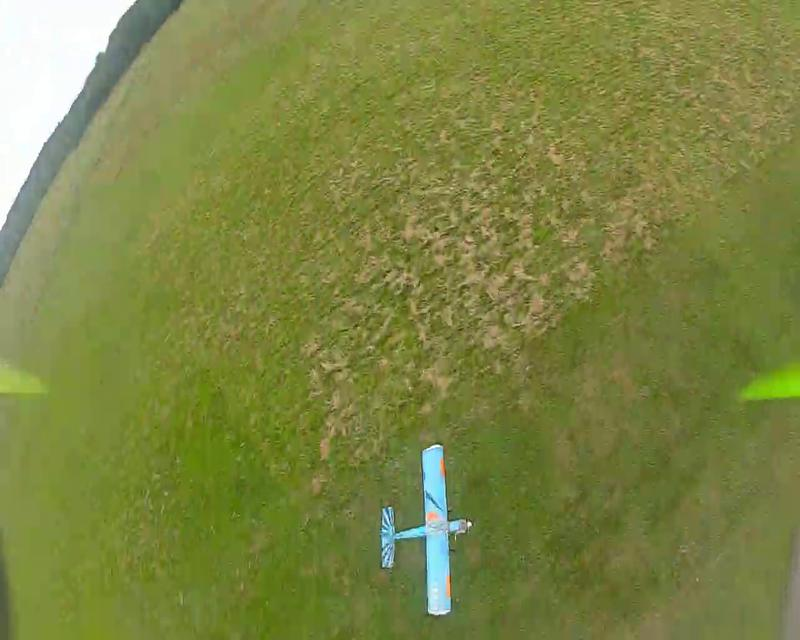UAV: (378, 442, 474, 616)
